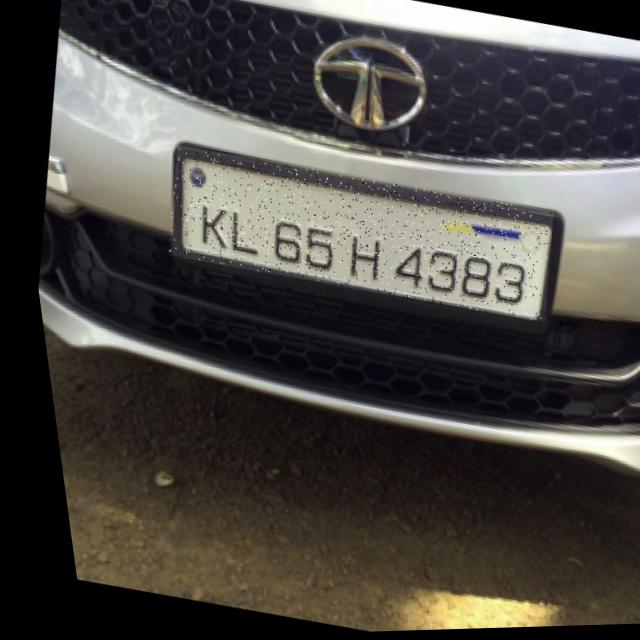license_plate: (149, 137, 558, 333)
